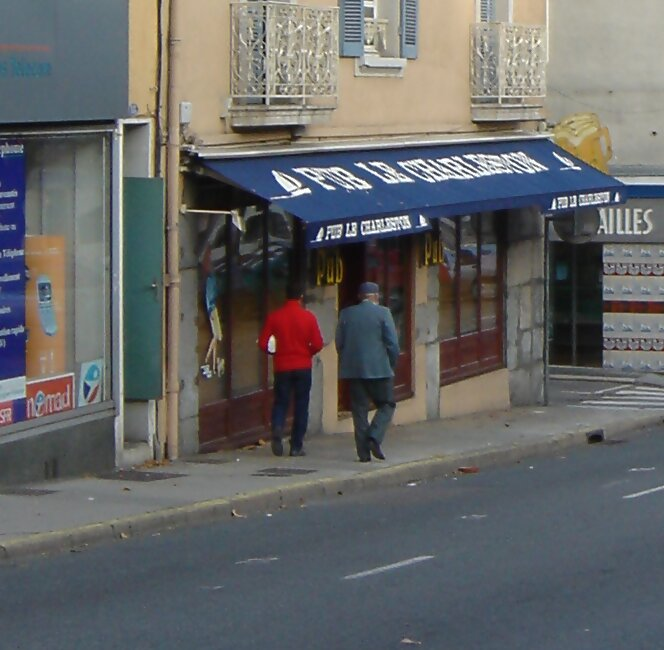person: (334, 275, 407, 462), (257, 272, 329, 458)
